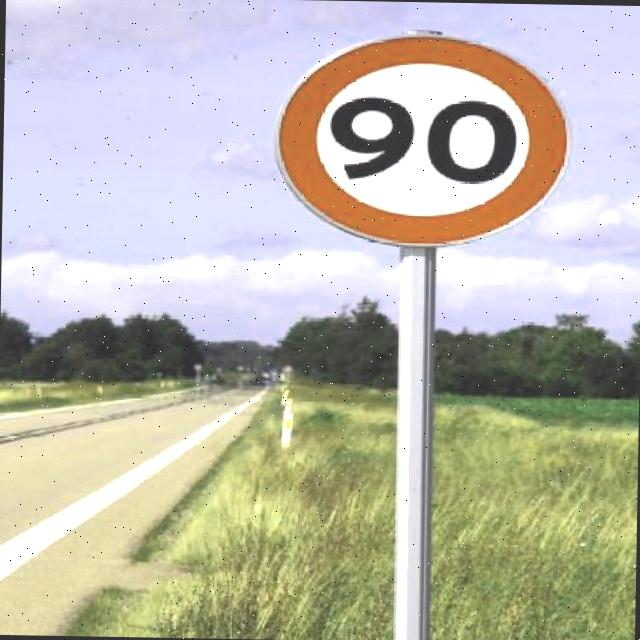Ograniczenie predkosci do 90: (266, 32, 572, 248)
